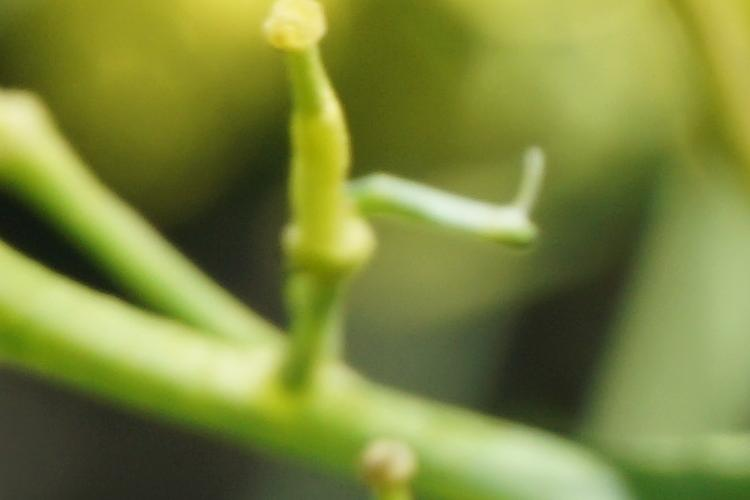pod: (261, 12, 380, 367)
